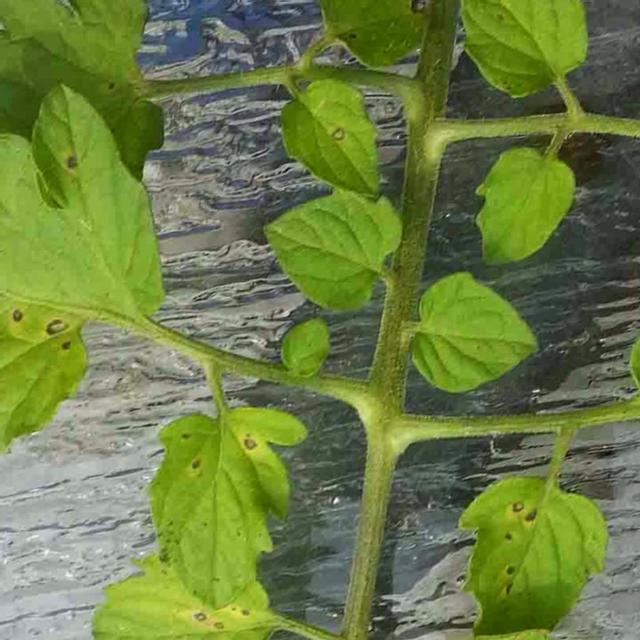Tomato Septoria leaf spot: (0, 55, 154, 445), (93, 374, 316, 618), (440, 441, 614, 640), (88, 536, 296, 640), (627, 228, 640, 604), (396, 635, 640, 640)
